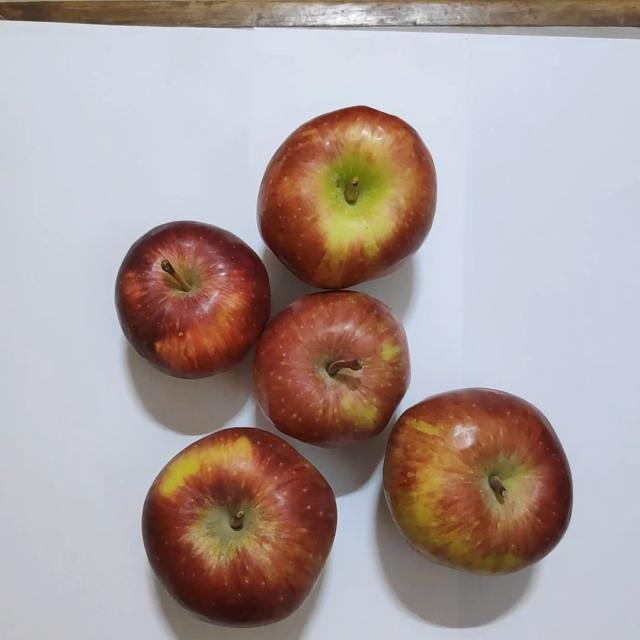apple: (134, 422, 338, 626), (380, 380, 579, 582), (253, 99, 442, 288), (249, 288, 426, 454), (109, 210, 272, 381)
